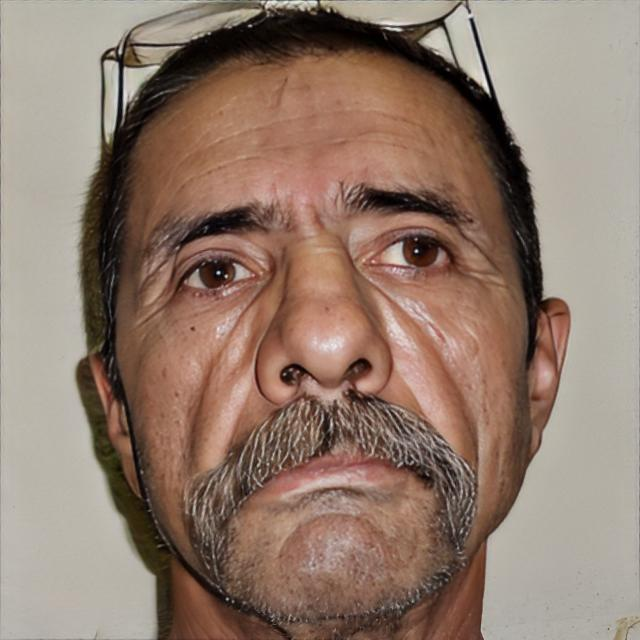sad: (110, 45, 530, 618)
